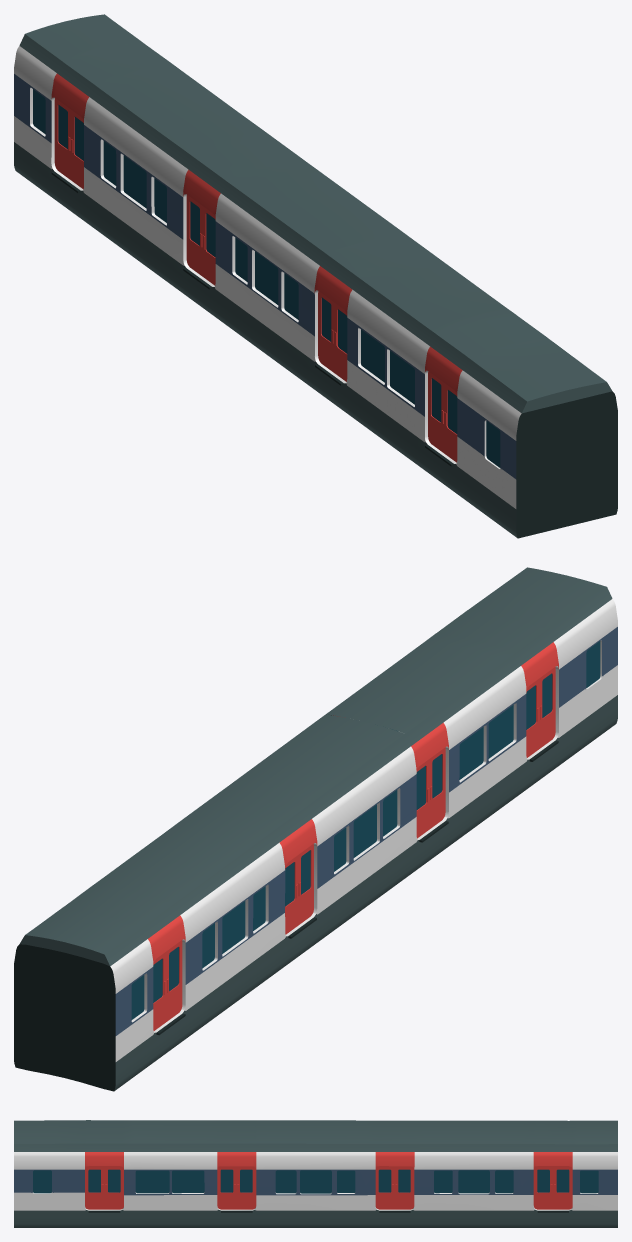
File: SM_Wagon.fbx
The picture shows the model from 3 angles, top to bottom: view 1: azimuth 30°, elevation 25°; view 2: azimuth 150°, elevation 25°; view 3: azimuth 270°, elevation 25°; orthographic projection. The views are drawn at different scales.
Visible parts, largest first — view 1: SM_Wagon; view 2: SM_Wagon; view 3: SM_Wagon.
Boxes of the visible parts, left/top/right/bottom form: SM_Wagon: left=14, top=14, right=617, bottom=538; SM_Wagon: left=14, top=567, right=617, bottom=1091; SM_Wagon: left=14, top=1120, right=617, bottom=1227.
Bounding box in the file's own units: 288 × 351 × 2326.
1 material, 1 textured.
